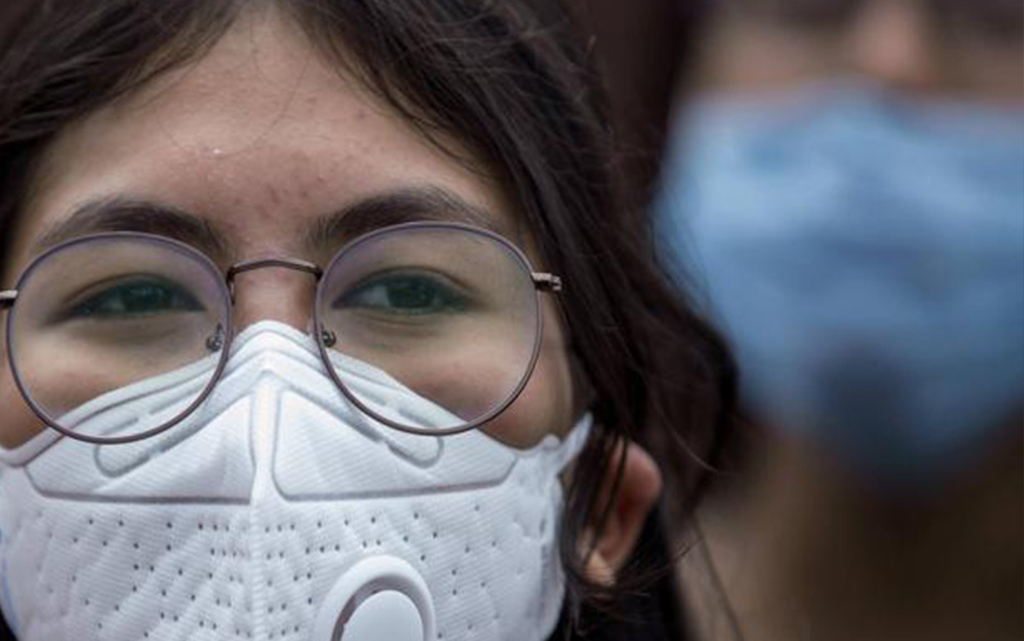with_mask: (8, 16, 661, 641)
